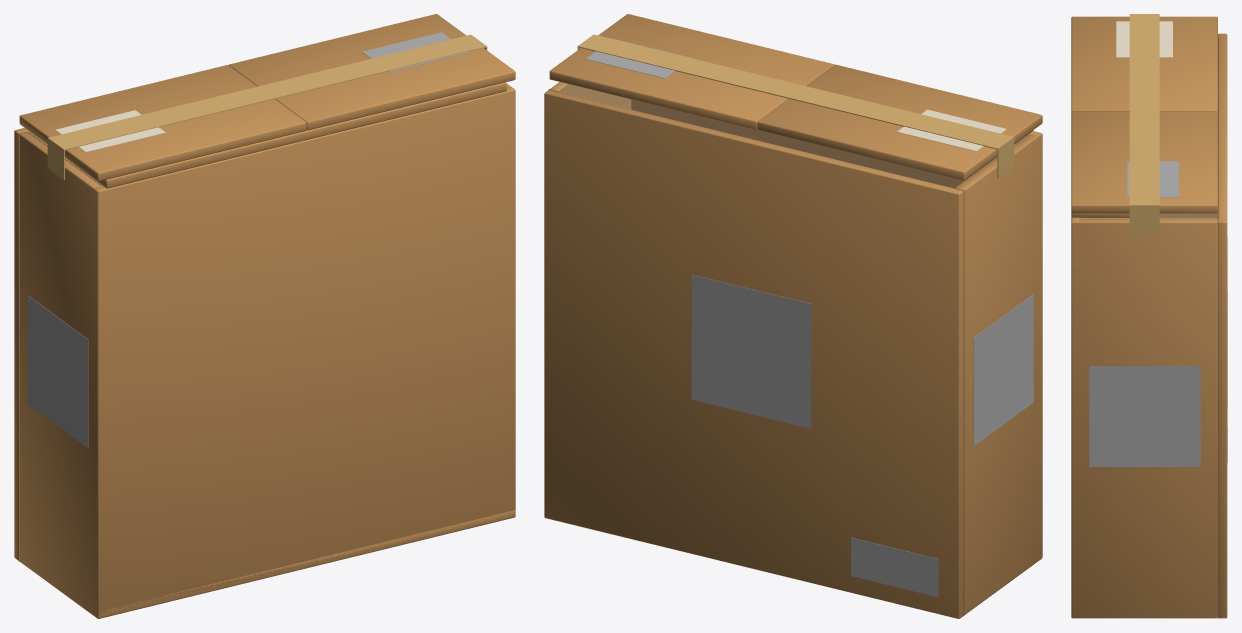
The picture shows the model from 3 angles, left to right: view 1: azimuth 30°, elevation 25°; view 2: azimuth 150°, elevation 25°; view 3: azimuth 270°, elevation 25°; orthographic projection. The views are drawn at different scales.
Visible parts, largest first — view 1: box_4x4, FlapR, FlapL, Tape, FlapB, Front; view 2: Front, box_4x4, FlapR, FlapL, Tape; view 3: box_4x4, FlapL, FlapR, Tape, Front, FlapB.
Boxes of the visible parts, bbox=[...] form: box_4x4: bbox=[18, 83, 515, 618]; FlapR: bbox=[19, 65, 306, 181]; FlapL: bbox=[228, 14, 515, 130]; Tape: bbox=[47, 34, 487, 179]; FlapB: bbox=[70, 82, 506, 188]; Front: bbox=[14, 128, 101, 560]; Front: bbox=[544, 90, 963, 618]; box_4x4: bbox=[548, 82, 1042, 615]; FlapR: bbox=[757, 64, 1042, 180]; FlapL: bbox=[549, 14, 834, 129]; Tape: bbox=[577, 34, 1014, 178]; box_4x4: bbox=[1071, 33, 1218, 618]; FlapL: bbox=[1071, 111, 1217, 213]; FlapR: bbox=[1071, 16, 1217, 111]; Tape: bbox=[1129, 14, 1159, 233]; Front: bbox=[1218, 33, 1227, 618]; FlapB: bbox=[1071, 212, 1129, 217].
Bounding box in the file's own units: 1.06 × 1.07 × 0.3649.
